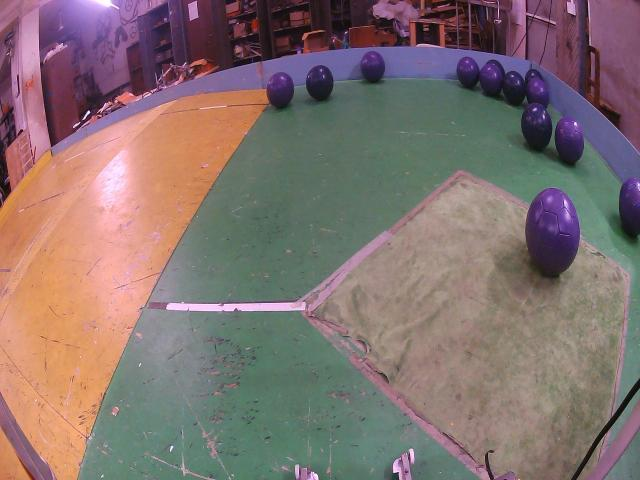jambhalya: (525, 188, 580, 275), (555, 117, 584, 164), (619, 177, 640, 236), (266, 72, 294, 108), (479, 62, 502, 97), (360, 52, 385, 83), (456, 57, 480, 88), (526, 77, 550, 108)
kaalyya: (521, 103, 552, 150), (306, 65, 334, 102), (502, 70, 526, 105), (525, 68, 544, 87), (486, 58, 505, 77)
